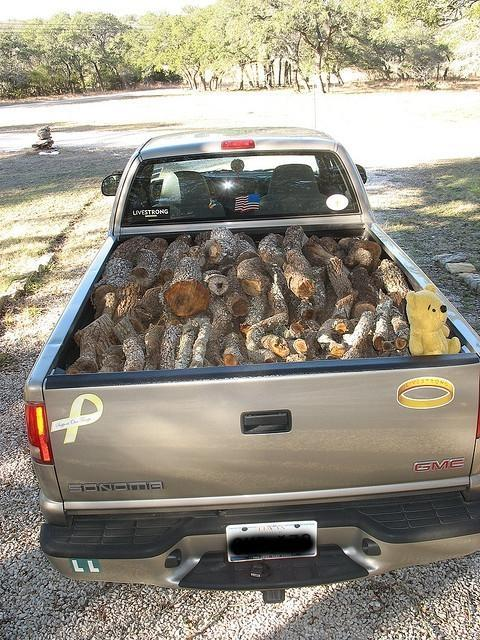truck: (20, 123, 480, 609)
